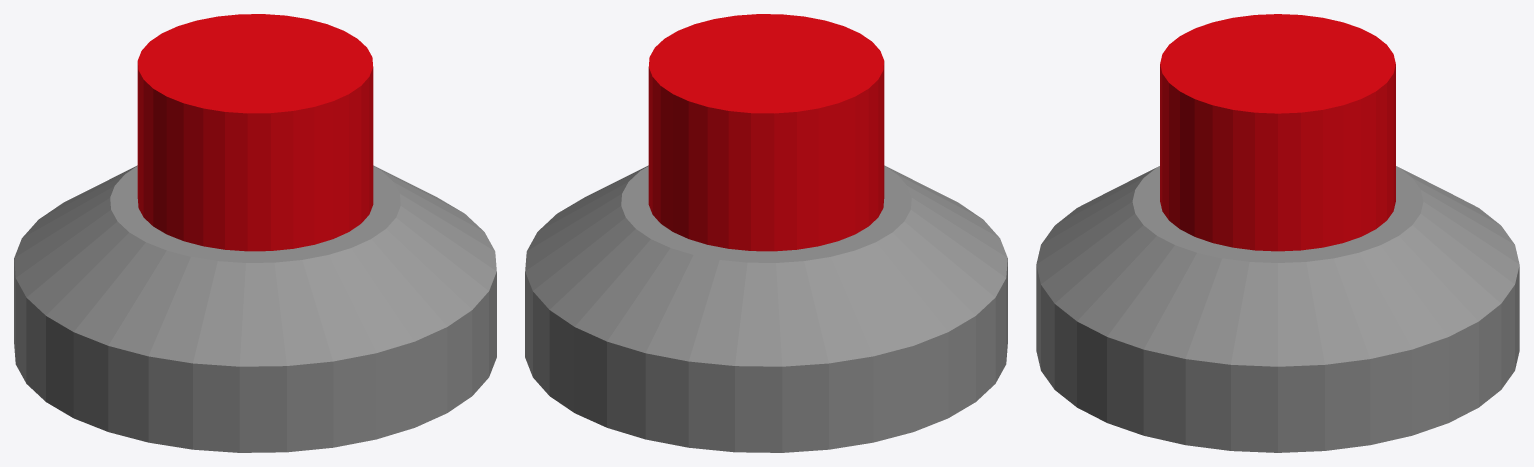
File: Button.glb
3 renders of one model, left to right at view 1: azimuth 30°, elevation 25°; view 2: azimuth 150°, elevation 25°; view 3: azimuth 270°, elevation 25°, orthographic.
Parts seen in each view (by area): view 1: Cylinder, Cylinder.001; view 2: Cylinder, Cylinder.001; view 3: Cylinder, Cylinder.001.
Part boxes in pixels (x1,y1,x2,y2): Cylinder: (14,165,496,452); Cylinder.001: (137,14,373,251); Cylinder: (525,165,1007,452); Cylinder.001: (648,14,884,251); Cylinder: (1036,166,1519,452); Cylinder.001: (1160,14,1395,251).
Bounding box in the file's own units: 2 × 1.31 × 2.
